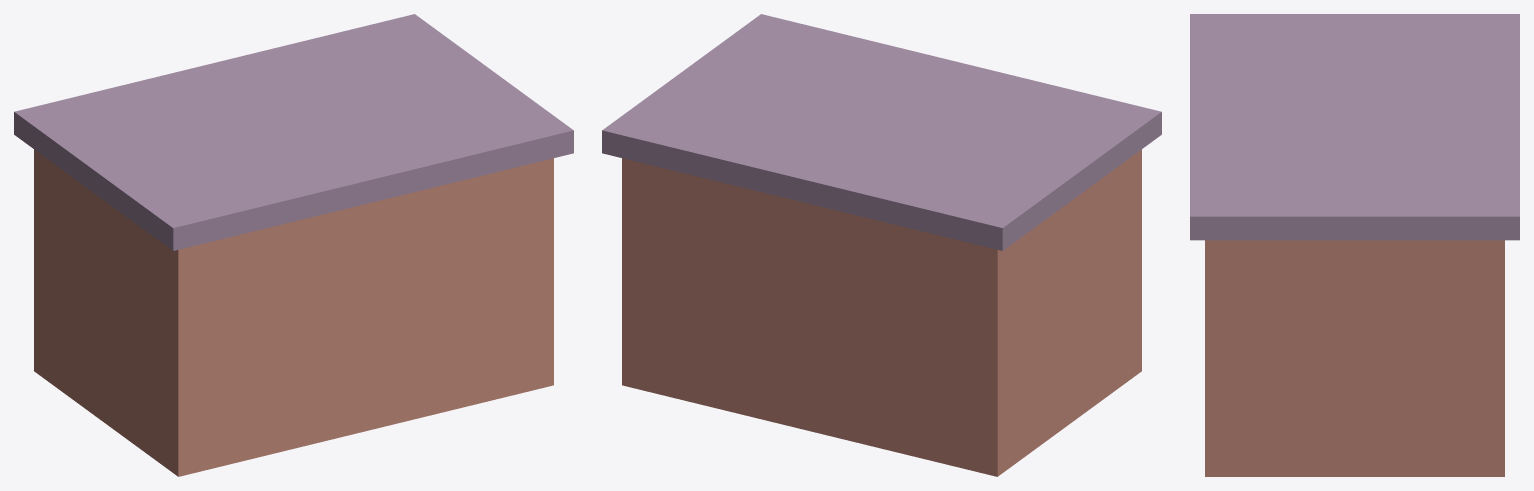
3 views of the same model, side by side, from view 1: azimuth 30°, elevation 25°; view 2: azimuth 150°, elevation 25°; view 3: azimuth 270°, elevation 25° (orthographic). The views are drawn at different scales.
Parts seen in each view (by area): view 1: po_01_lo2; view 2: po_01_lo2; view 3: po_01_lo2.
Part boxes in pixels (x1,y1,x2,y2): po_01_lo2: (14,14,573,476); po_01_lo2: (602,14,1161,476); po_01_lo2: (1190,14,1519,476).
Size of the model in its own units: 6.4 by 3.92 by 4.4.
